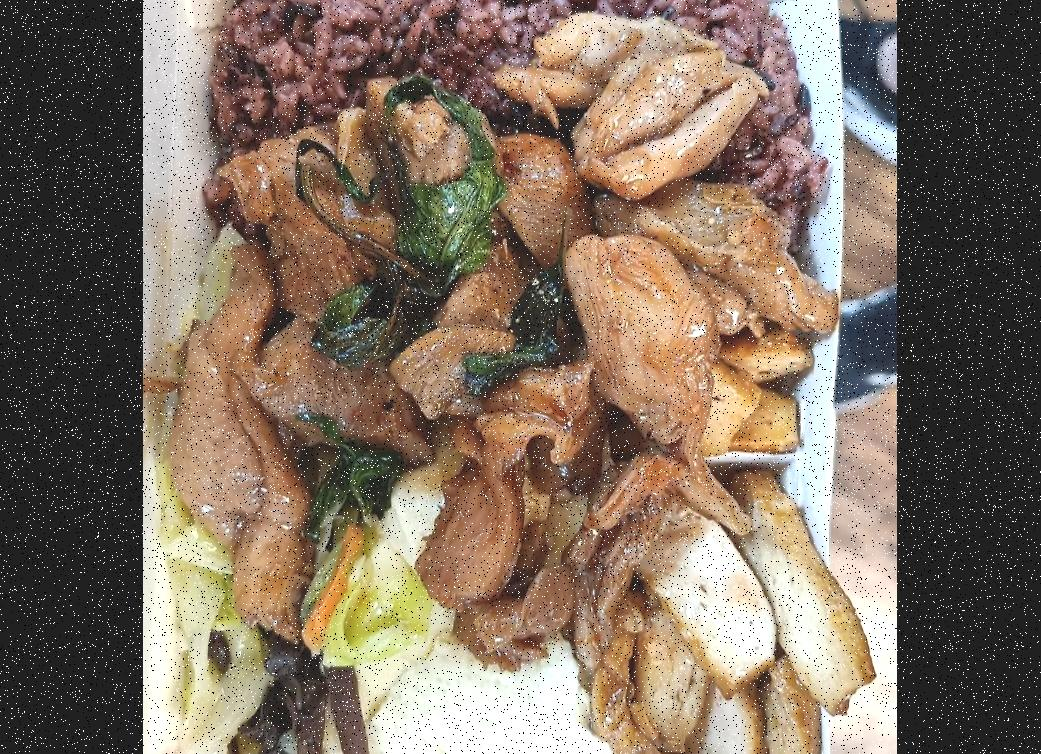box: (165, 0, 856, 754)
purple rice: (193, 0, 813, 266)
side dish: (584, 484, 859, 754), (339, 517, 583, 754), (174, 529, 366, 754)
three cup chicken: (180, 18, 817, 634)
